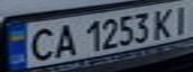1: (78, 17, 103, 53)
2: (100, 15, 121, 49)
3: (130, 10, 154, 43)
5: (118, 12, 139, 47)
A: (48, 21, 81, 59)
C: (21, 25, 60, 63)
I: (169, 2, 193, 35)
K: (148, 4, 181, 38)
